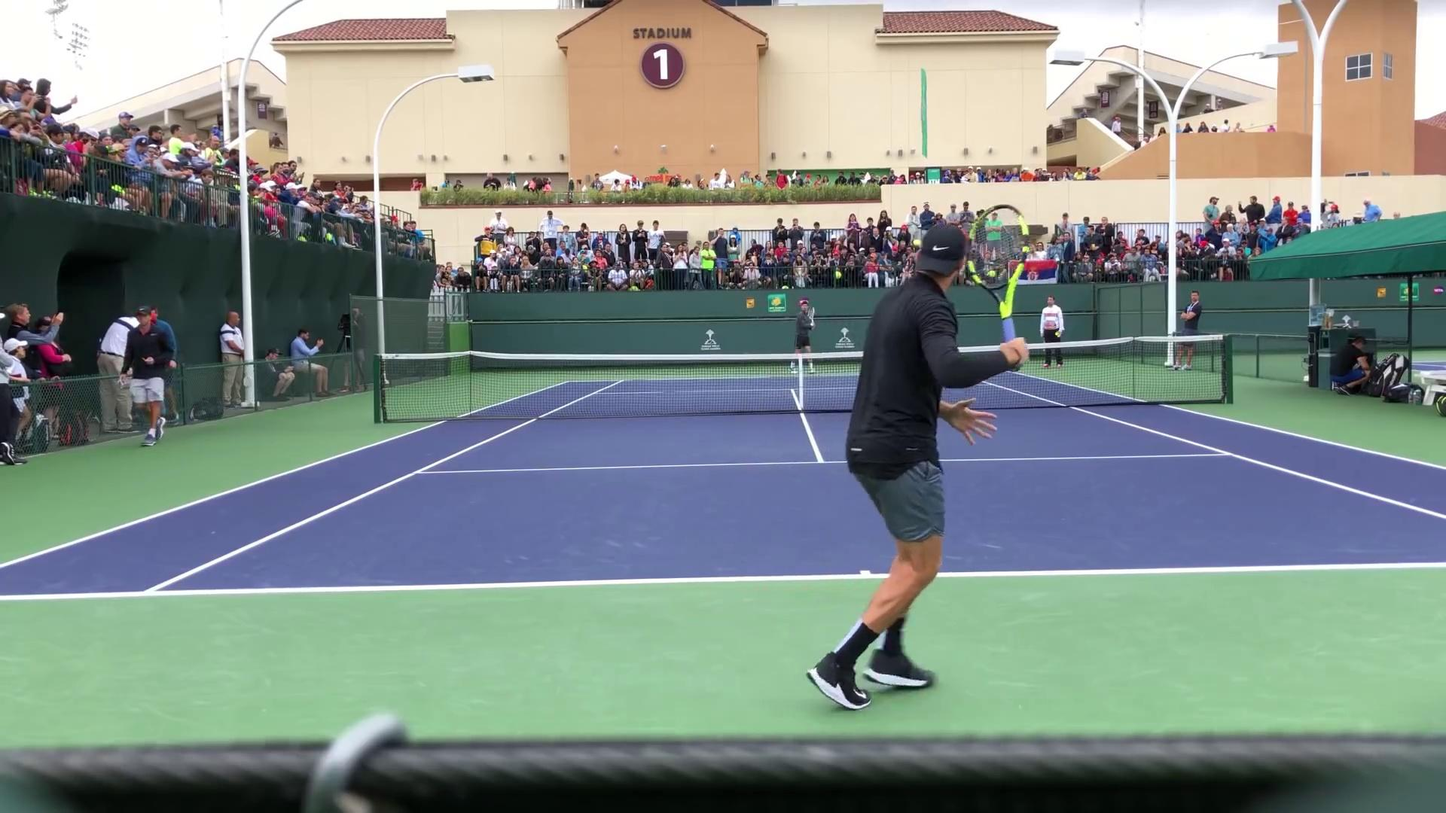ball: (919, 124, 922, 127)
